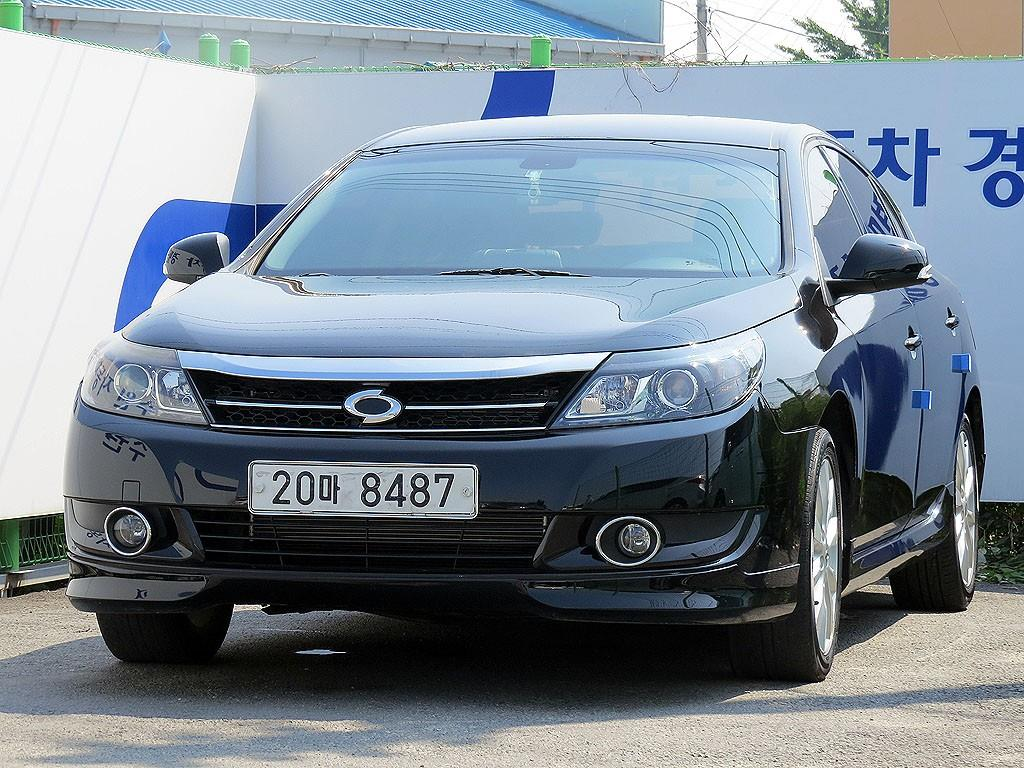plate: (250, 463, 476, 516)
